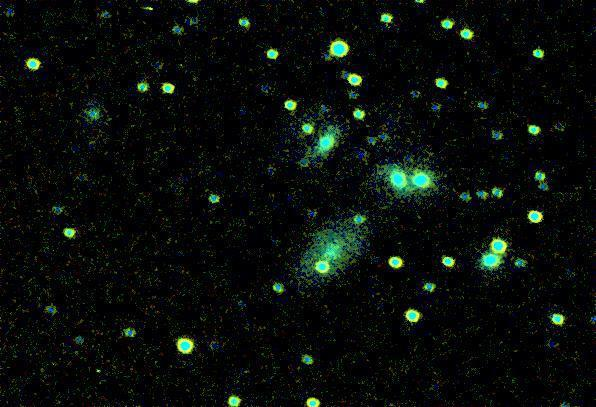star: (314, 114, 344, 144)
